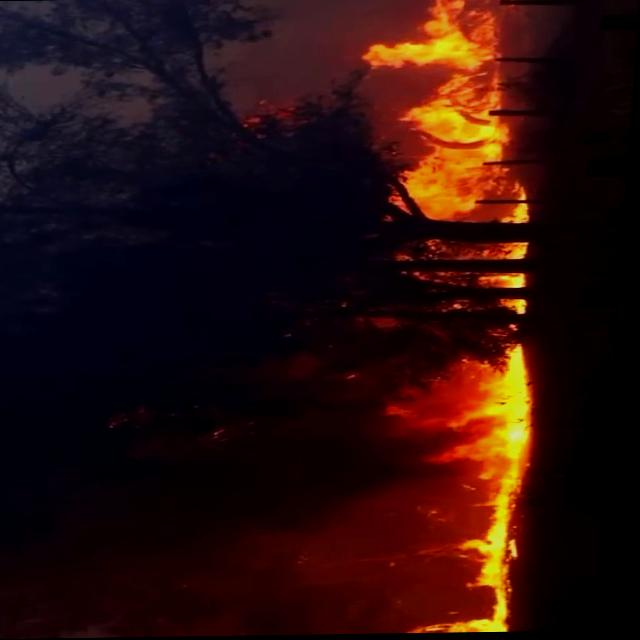fire: (410, 351, 545, 635), (368, 43, 518, 216)
